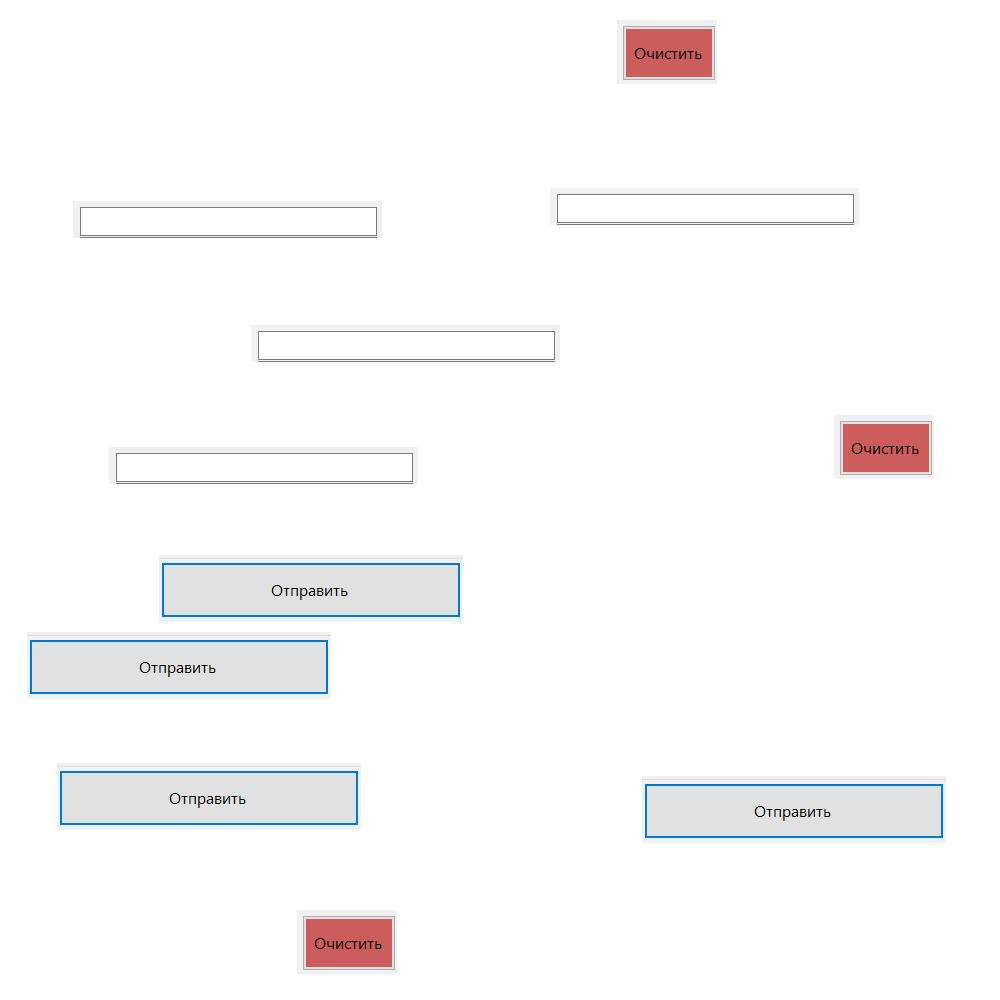Button: (159, 555, 463, 622), (57, 763, 361, 830), (27, 632, 331, 699), (642, 776, 946, 843), (297, 910, 397, 974), (834, 415, 934, 479), (617, 20, 717, 84)
EditText-: (109, 447, 418, 484), (550, 188, 859, 225), (251, 325, 560, 362), (73, 201, 382, 238)
